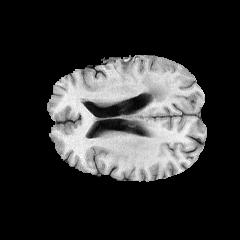glioma: (141, 72, 168, 101)
